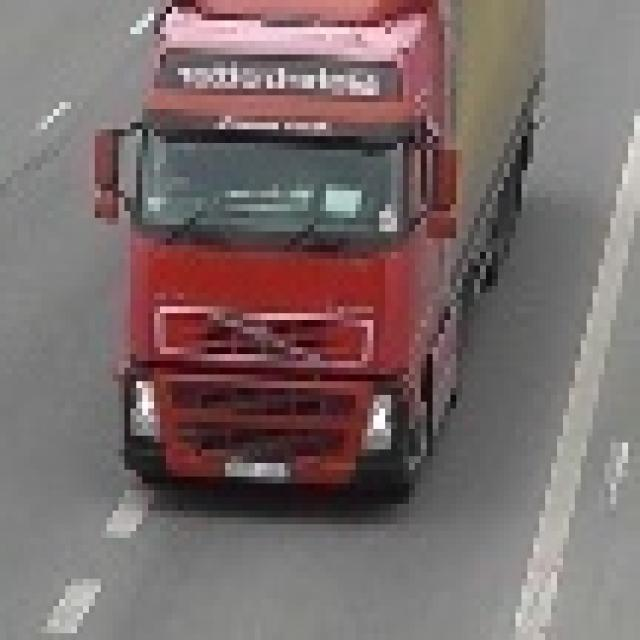TRUCK: (92, 0, 544, 501)
